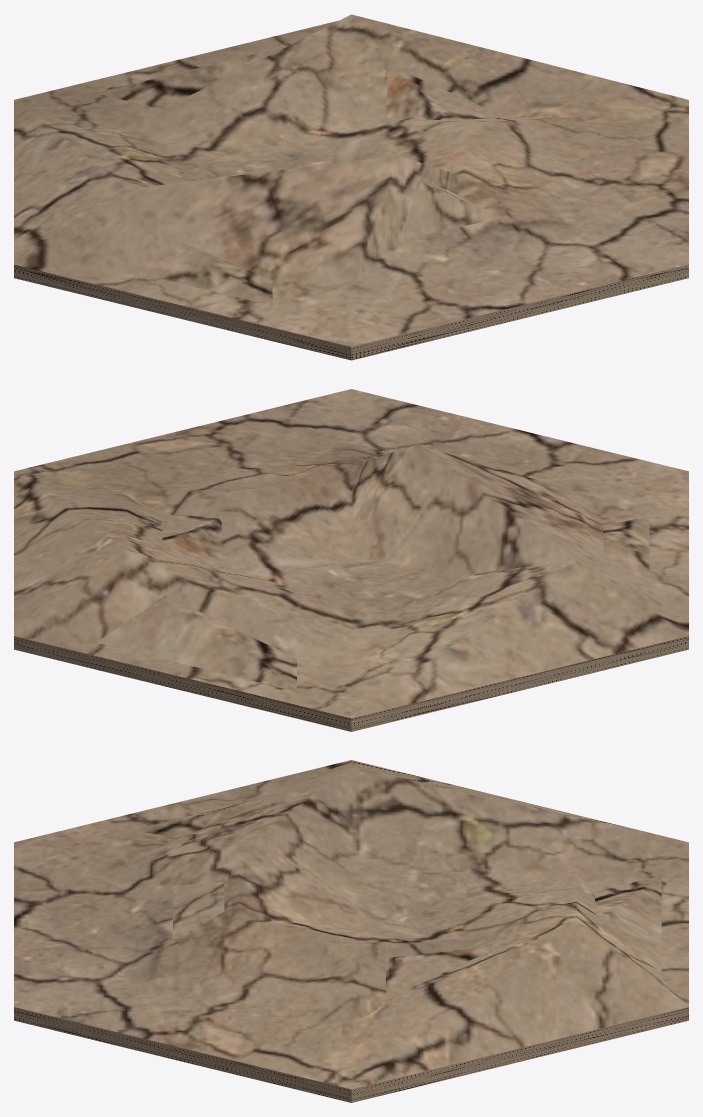
The model's file is rocks.fbx.
3 views of the same model, one above another, from view 1: azimuth 30°, elevation 25°; view 2: azimuth 150°, elevation 25°; view 3: azimuth 270°, elevation 25° (orthographic).
Parts seen in each view (by area): view 1: pPrism1; view 2: pPrism1; view 3: pPrism1.
Boxes of the visible parts, left/top/right/bottom form: pPrism1: left=14, top=14, right=688, bottom=360; pPrism1: left=14, top=389, right=688, bottom=731; pPrism1: left=14, top=760, right=688, bottom=1102.
Size of the model in its own units: 18.02 by 2.13 by 15.61.
